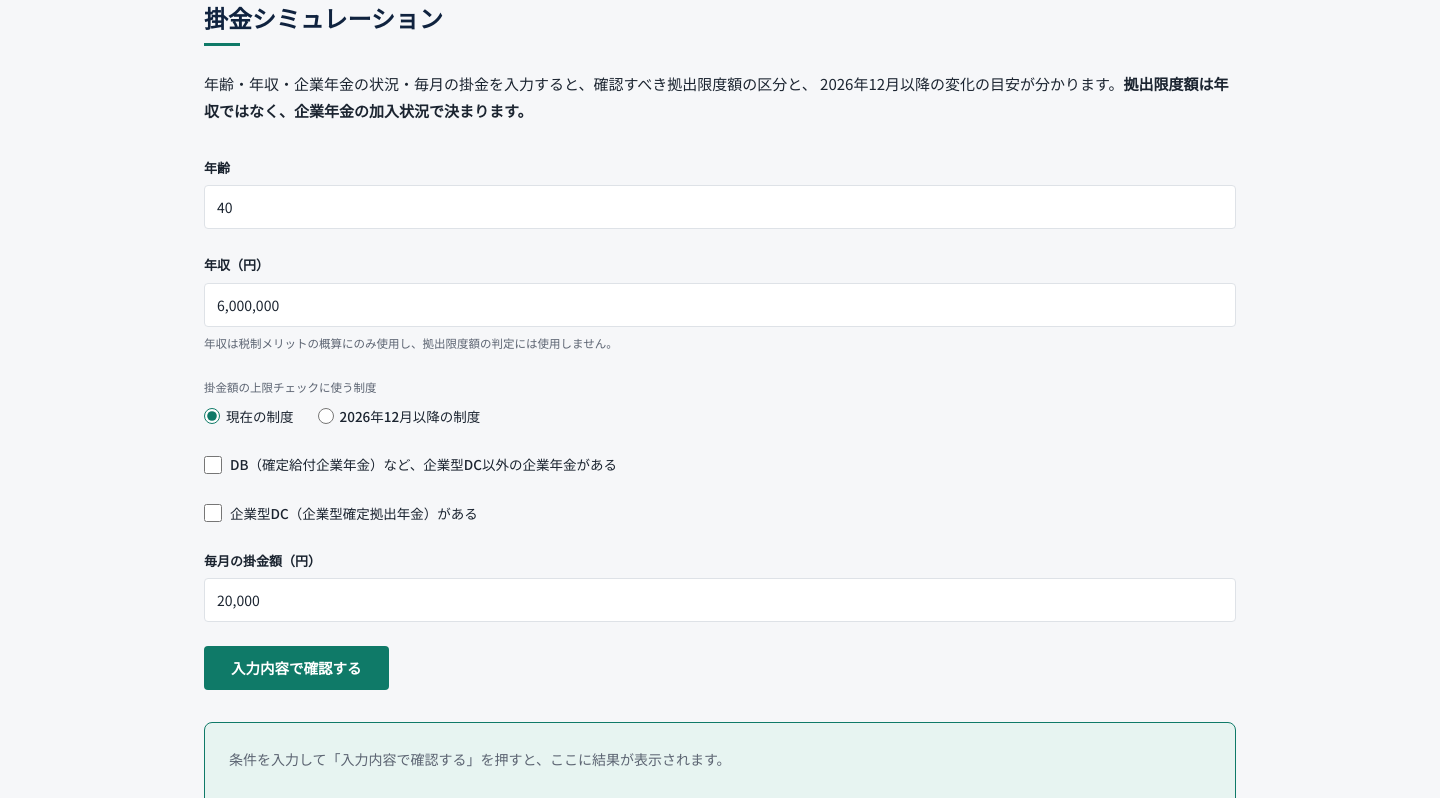
Test: SimulatorSection › 掛金額のバリデーション › 正常な掛金額（デフォルト値20,000円）ではエラーにならず、送信すると計算結果が表示される
What coordinates should you click on to do the following:
click the button "入力内容で確認する"
I would click on:
 (296, 668)
Its box is x1=204 y1=646 x2=388 y2=690.
(page scrolled)
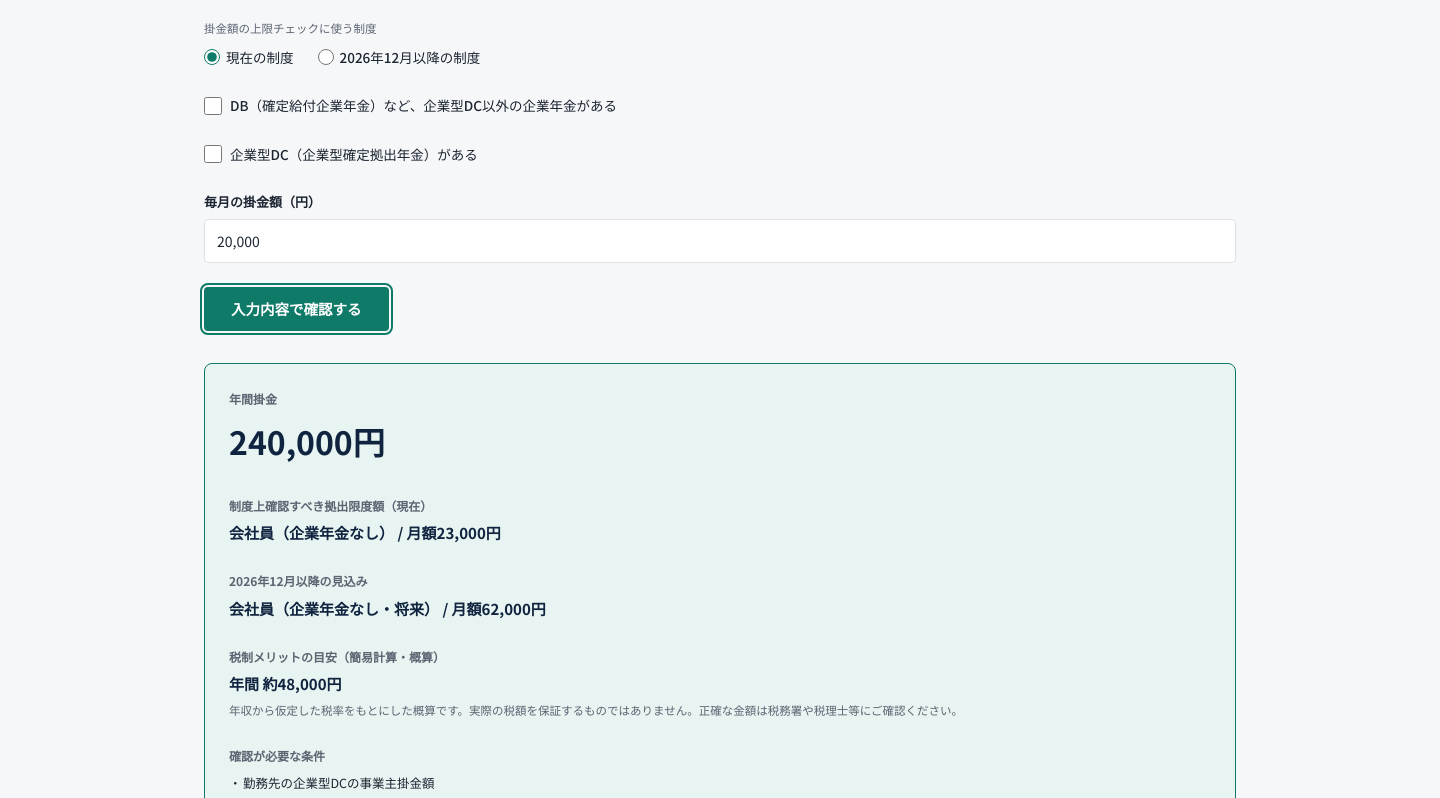
Result: the text "240,000円" is shown at x1=229 y1=418 x2=385 y2=464
